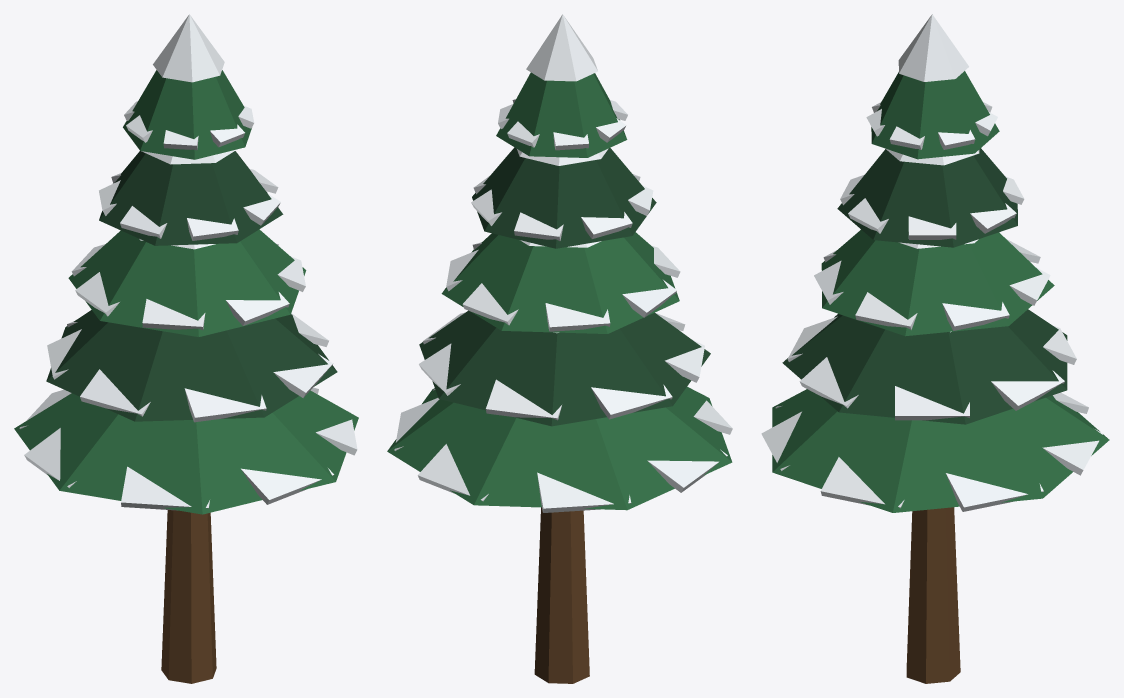
File: arbre_toundra_1.glb
3 renders of one model, left to right at view 1: azimuth 30°, elevation 25°; view 2: azimuth 150°, elevation 25°; view 3: azimuth 270°, elevation 25°, orthographic.
Visible parts, largest first — view 1: sapin_etage_0.002, sapin_etage_1.002, sapin_etage_2.002, sapin_etage_3.002, sapin_tronc.002, sapin_etage_4.002, sapin_bord_0_neige.002, sapin_bord_1_neige.002, sapin_bord_2_neige.002, sapin_bord_3_neige.002, sapin_neige_4.002, sapin_bord_4_neige.002 (+1 smaller); view 2: sapin_etage_0.002, sapin_etage_1.002, sapin_etage_2.002, sapin_etage_3.002, sapin_tronc.002, sapin_etage_4.002, sapin_bord_0_neige.002, sapin_bord_1_neige.002, sapin_bord_2_neige.002, sapin_bord_3_neige.002, sapin_neige_4.002, sapin_bord_4_neige.002 (+1 smaller); view 3: sapin_etage_0.002, sapin_etage_1.002, sapin_etage_2.002, sapin_etage_3.002, sapin_tronc.002, sapin_etage_4.002, sapin_bord_0_neige.002, sapin_bord_1_neige.002, sapin_bord_2_neige.002, sapin_bord_3_neige.002, sapin_neige_4.002, sapin_bord_4_neige.002 (+1 smaller).
Part boxes in pixels (x1,y1,x2,y2): sapin_etage_0.002: (14,390,358,514); sapin_etage_1.002: (46,310,337,421); sapin_etage_2.002: (68,229,306,336); sapin_etage_3.002: (99,151,283,245); sapin_tronc.002: (161,510,216,683); sapin_etage_4.002: (123,70,251,159); sapin_bord_0_neige.002: (19,387,357,510); sapin_bord_1_neige.002: (47,313,333,422); sapin_bord_2_neige.002: (71,243,305,330); sapin_bord_3_neige.002: (99,168,280,240); sapin_neige_4.002: (153,14,224,82); sapin_bord_4_neige.002: (124,101,254,150); sapin_etage_0.002: (387,386,732,510); sapin_etage_1.002: (419,310,710,426); sapin_etage_2.002: (441,232,679,333); sapin_etage_3.002: (472,147,656,248); sapin_tronc.002: (534,507,589,683); sapin_etage_4.002: (496,72,627,157); sapin_bord_0_neige.002: (394,389,732,512); sapin_bord_1_neige.002: (419,312,704,420); sapin_bord_2_neige.002: (446,242,680,331); sapin_bord_3_neige.002: (471,174,653,240); sapin_neige_4.002: (526,14,597,81); sapin_bord_4_neige.002: (498,99,627,150); sapin_etage_0.002: (772,389,1109,512); sapin_etage_1.002: (782,309,1067,424); sapin_etage_2.002: (821,229,1054,336); sapin_etage_3.002: (837,148,1017,247); sapin_tronc.002: (906,507,960,683); sapin_etage_4.002: (871,71,999,159); sapin_bord_0_neige.002: (761,392,1102,511); sapin_bord_1_neige.002: (787,316,1076,420); sapin_bord_2_neige.002: (814,239,1050,330); sapin_bord_3_neige.002: (840,174,1024,239); sapin_neige_4.002: (898,14,968,81); sapin_bord_4_neige.002: (866,102,997,149).
Size of the model in its own units: 2.44 by 5.12 by 2.45.
